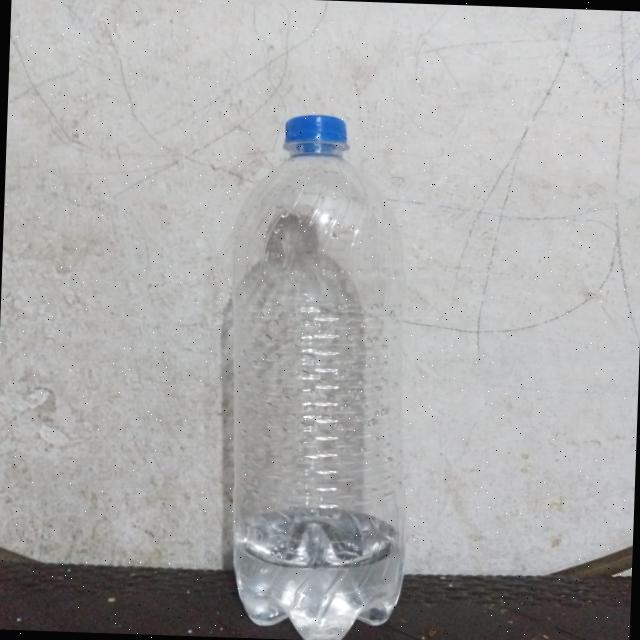bottle: (191, 86, 438, 640)
cap: (275, 108, 358, 160)
